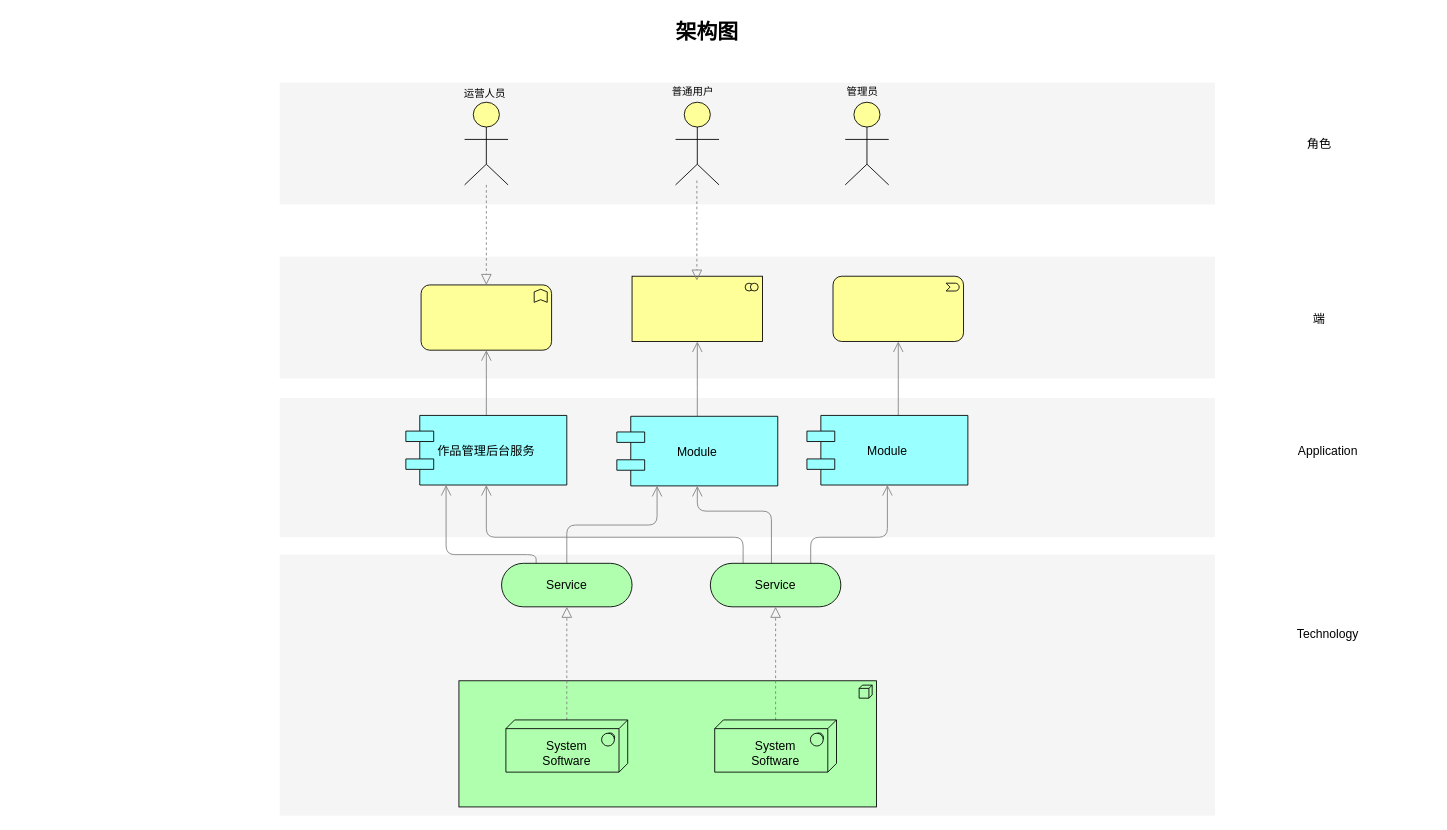
The diagram is 1447 pixels wide and 830 high, and some of its shapes have lost their labels. The shapes that lost their labels are listed below. From the top down, each one's box as (x1, y1, x2, y2) in pixels, then its label:
(420, 284, 552, 350): 作品管理-前端
(631, 275, 763, 341): 作品h5页面
(832, 275, 964, 341): 后台管理-前端
(458, 680, 877, 807): Node
